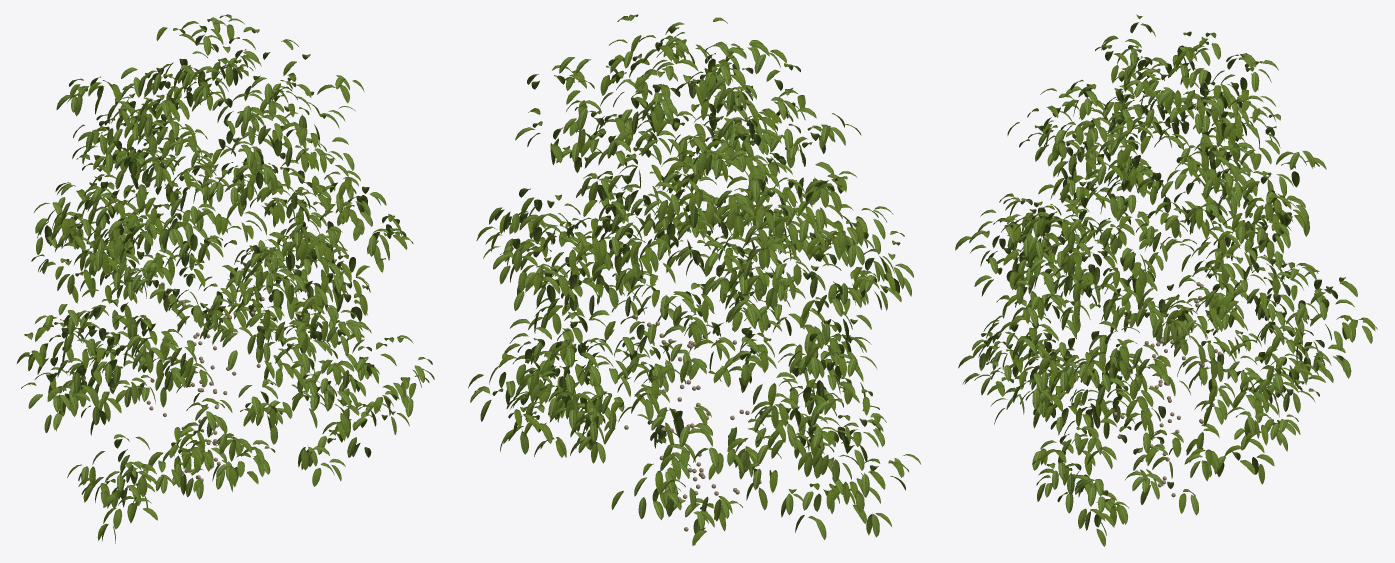
The model's file is SM_StelechocarpusBurahol_M_LOD1.fbx.
The picture shows the model from 3 angles, left to right: view 1: azimuth 30°, elevation 25°; view 2: azimuth 150°, elevation 25°; view 3: azimuth 270°, elevation 25°; orthographic projection. The views are drawn at different scales.
Parts seen in each view (by area): view 1: MI_LOD1_001, MI_LOD1_003, MI_LOD1_002, MI_LOD1_004; view 2: MI_LOD1_001, MI_LOD1_003, MI_LOD1_002, MI_LOD1_004; view 3: MI_LOD1_001, MI_LOD1_003, MI_LOD1_002, MI_LOD1_004.
Boxes of the visible parts, <box> form: MI_LOD1_001: <box>17,17,434,541</box>; MI_LOD1_003: <box>21,14,413,529</box>; MI_LOD1_002: <box>17,17,416,543</box>; MI_LOD1_004: <box>146,282,264,481</box>; MI_LOD1_001: <box>470,14,913,539</box>; MI_LOD1_003: <box>485,35,920,545</box>; MI_LOD1_002: <box>468,17,904,545</box>; MI_LOD1_004: <box>624,314,761,531</box>; MI_LOD1_001: <box>955,22,1377,530</box>; MI_LOD1_003: <box>958,39,1357,546</box>; MI_LOD1_002: <box>983,14,1375,527</box>; MI_LOD1_004: <box>1107,282,1221,497</box>.
Size of what is drawn, in the model's own units: 511 by 591 by 494.
